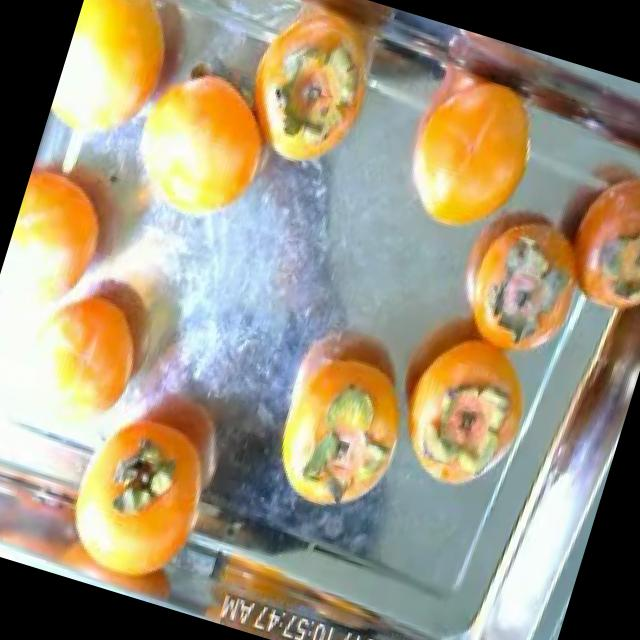Fruit: (366, 26, 572, 267), (227, 0, 403, 196)
